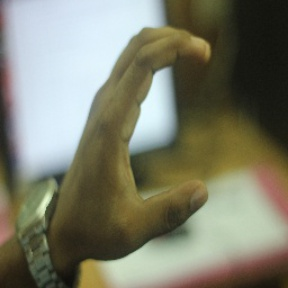C: (91, 21, 219, 227)
